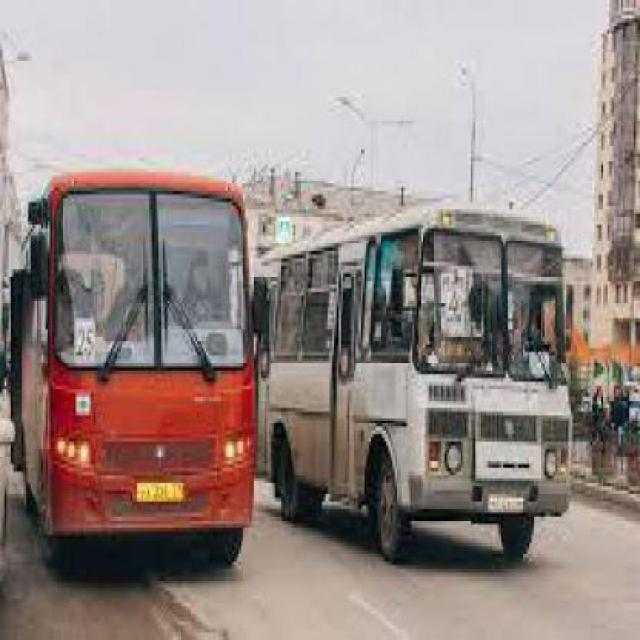bus: (278, 201, 572, 566), (18, 166, 262, 586)
